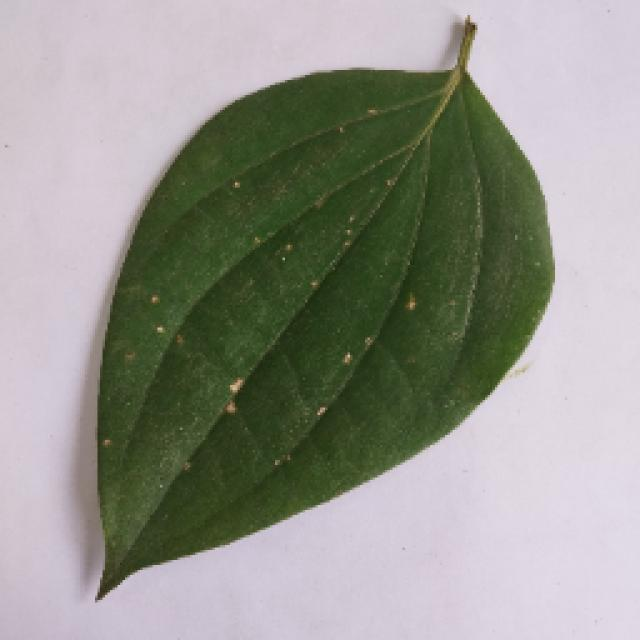pollu-disease: (92, 30, 550, 598)
